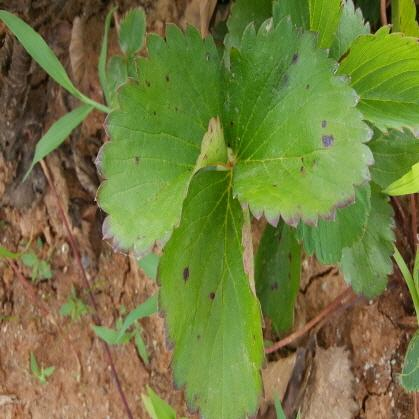Leaf Spot: (223, 13, 375, 229), (93, 21, 229, 260), (155, 166, 269, 418), (339, 180, 396, 303), (254, 215, 300, 336)
